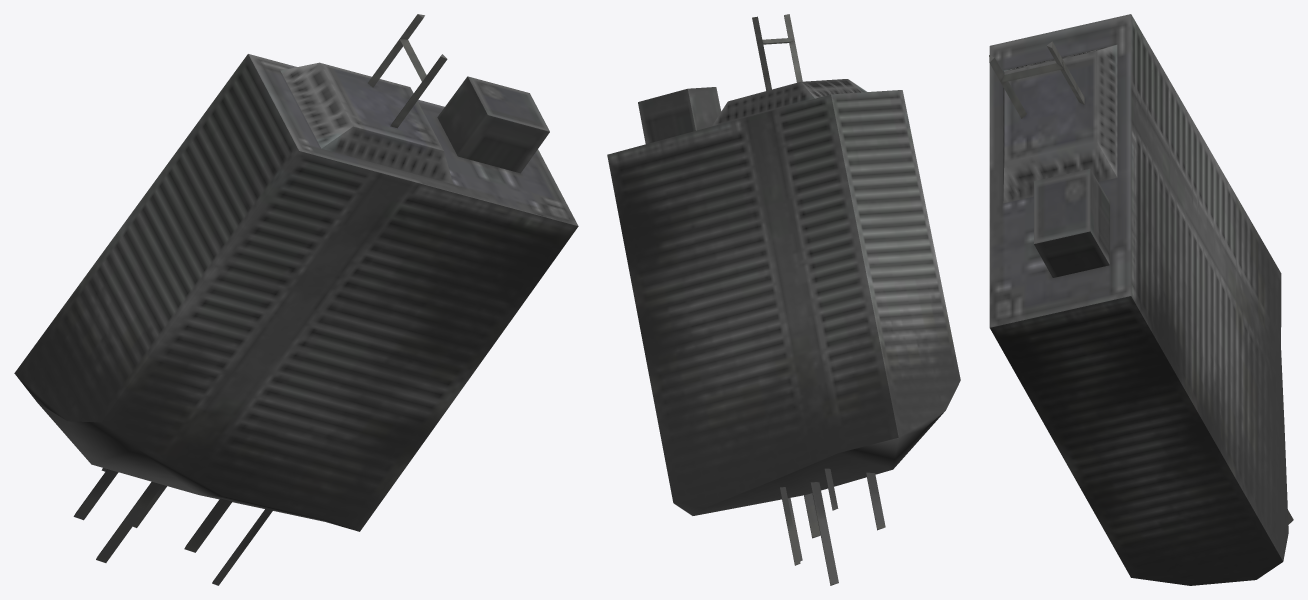
File: skyBuildingAAC_pos_grp (11).fbx
3 views of the same model, side by side, from view 1: azimuth 30°, elevation 25°; view 2: azimuth 150°, elevation 25°; view 3: azimuth 270°, elevation 25° (orthographic). The views are drawn at different scales.
Parts seen in each view (by area): view 1: skyBuildingAAC_geo; view 2: skyBuildingAAC_geo; view 3: skyBuildingAAC_geo.
Part boxes in pixels (x1,y1,x2,y2): skyBuildingAAC_geo: (14, 14, 578, 585); skyBuildingAAC_geo: (607, 14, 960, 585); skyBuildingAAC_geo: (989, 14, 1293, 585).
Size of the model in its own units: 7.31 by 9.42 by 4.33.
